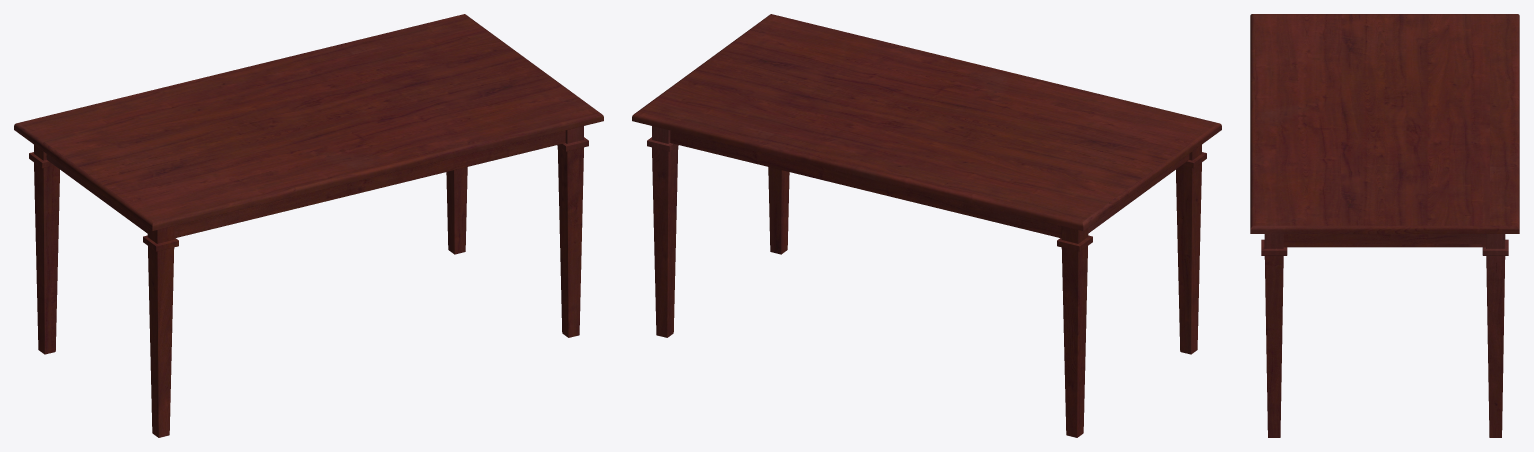
3 views of the same model, side by side, from view 1: azimuth 30°, elevation 25°; view 2: azimuth 150°, elevation 25°; view 3: azimuth 270°, elevation 25° (orthographic). The views are drawn at different scales.
Visible parts, largest first — view 1: F01-01BS106; view 2: F01-01BS106; view 3: F01-01BS106.
Part boxes in pixels (x1,y1,x2,y2): F01-01BS106: (14, 14, 603, 437); F01-01BS106: (632, 14, 1221, 437); F01-01BS106: (1250, 14, 1519, 437).
Size of the model in its own units: 160 by 76 by 85.
Materials: 1 (1 with a texture image).
